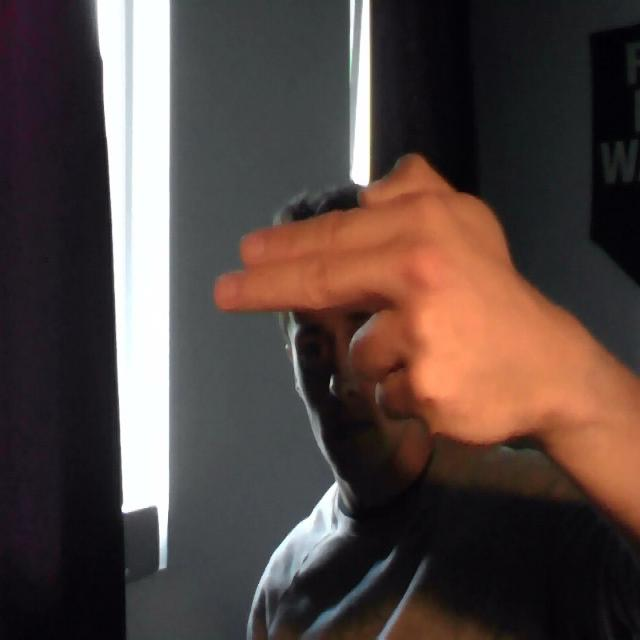left: (205, 150, 570, 472)
